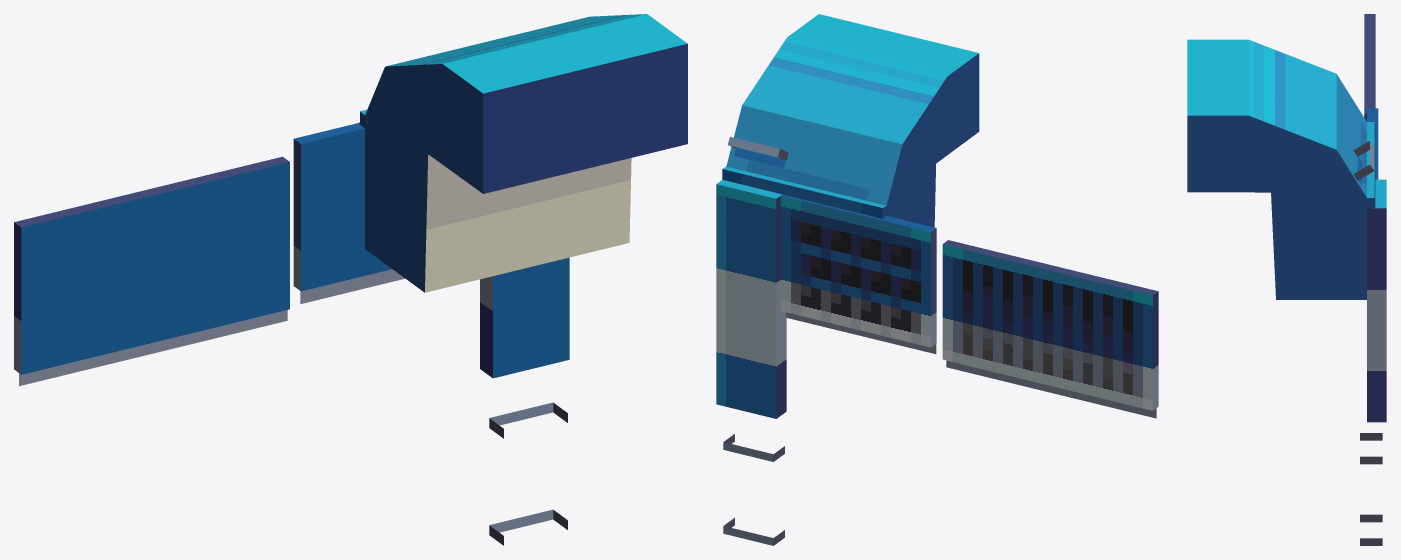
File: df5_air_intake_2.obj
3 views of the same model, side by side, from view 1: azimuth 30°, elevation 25°; view 2: azimuth 150°, elevation 25°; view 3: azimuth 270°, elevation 25° (orthographic). The views are drawn at different scales.
Visible parts, largest first — view 1: cube; view 2: cube; view 3: cube.
Boxes of the visible parts, x1=… form: cube: x1=14, y1=14, x2=687, y2=545; cube: x1=716, y1=14, x2=1158, y2=545; cube: x1=1187, y1=14, x2=1386, y2=545.
Bounding box in the file's own units: 2.69 × 2.65 × 1.11.
